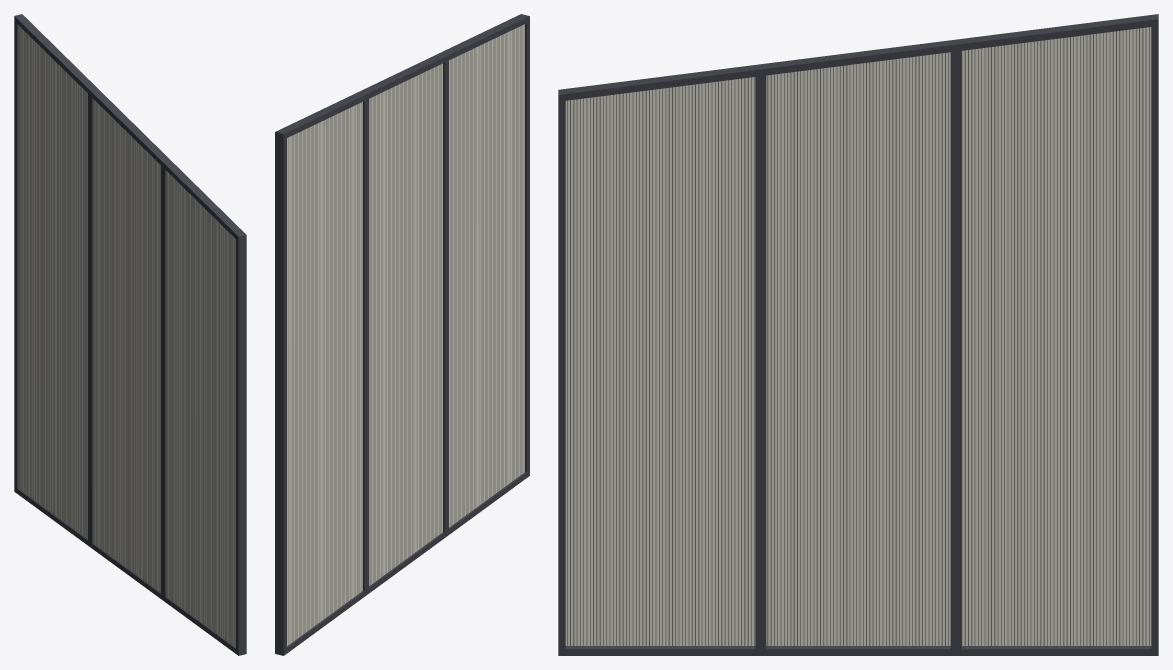
File: nebbiolo_sidewall_left_poly_cream_400_250.glb
3 renders of one model, left to right at view 1: azimuth 30°, elevation 25°; view 2: azimuth 150°, elevation 25°; view 3: azimuth 270°, elevation 25°, orthographic. The views are drawn at different scales.
Parts seen in each view (by area): view 1: sidewall_left_poly_cream_400_250; view 2: sidewall_left_poly_cream_400_250; view 3: sidewall_left_poly_cream_400_250.
Boxes of the visible parts, left/top/right/bottom form: sidewall_left_poly_cream_400_250: left=14, top=14, right=246, bottom=655; sidewall_left_poly_cream_400_250: left=275, top=14, right=529, bottom=655; sidewall_left_poly_cream_400_250: left=558, top=14, right=1158, bottom=655.
Bounding box in the file's own units: 0.05 × 2.85 × 2.44.
Materials: 2 (2 with a texture image).
